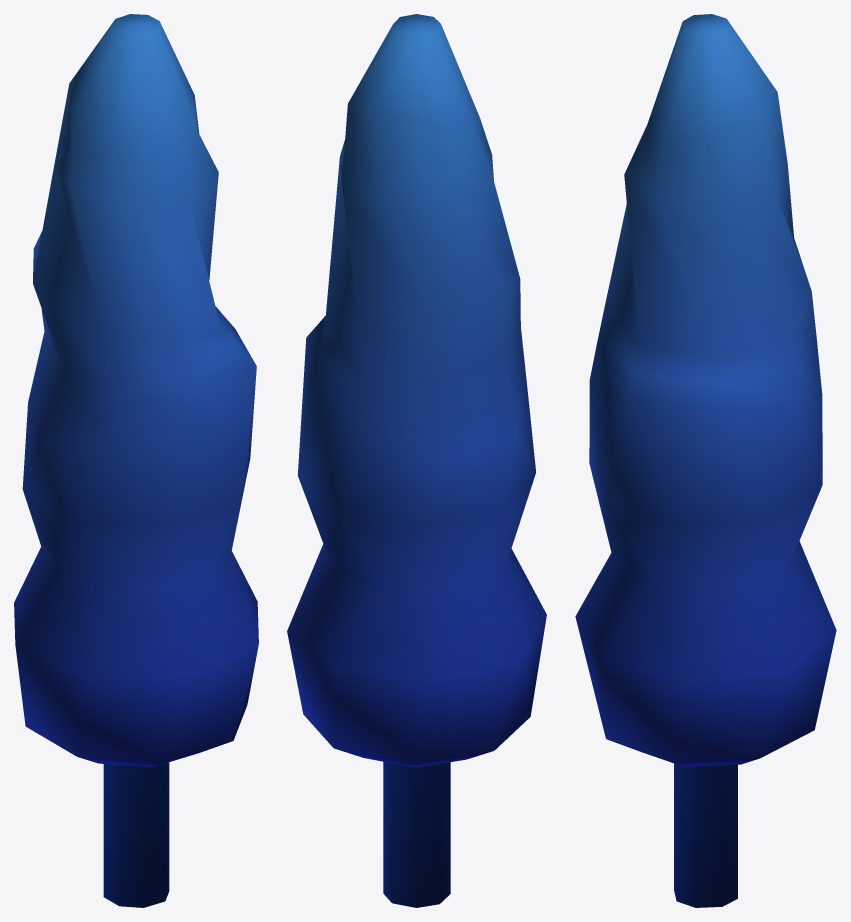
The model's file is Arbre2.fbx.
The picture shows the model from 3 angles, left to right: view 1: azimuth 30°, elevation 25°; view 2: azimuth 150°, elevation 25°; view 3: azimuth 270°, elevation 25°; orthographic projection.
Visible parts, largest first — view 1: Cube; view 2: Cube; view 3: Cube.
Part boxes in pixels (<box>): Cube: <box>14,14,258,907</box>; Cube: <box>287,14,546,907</box>; Cube: <box>575,14,836,907</box>.
Bounding box in the file's own units: 249 × 916 × 249.
